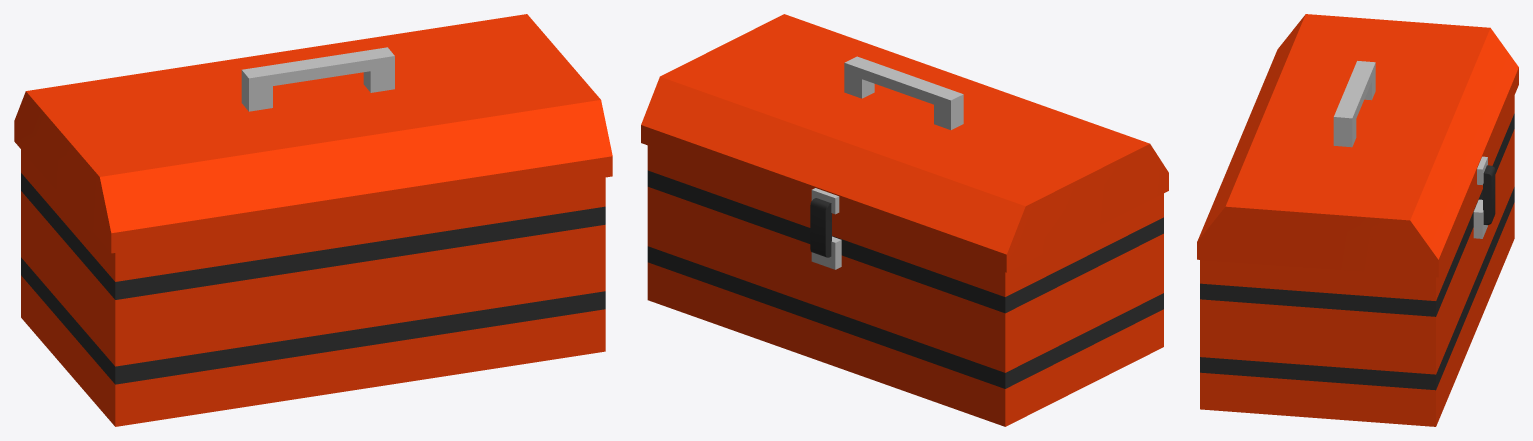
The model's file is toolbox.fbx.
3 views of the same model, side by side, from view 1: azimuth 30°, elevation 25°; view 2: azimuth 150°, elevation 25°; view 3: azimuth 270°, elevation 25° (orthographic). The views are drawn at different scales.
Visible parts, largest first — view 1: Toolbox; view 2: Toolbox; view 3: Toolbox.
Part boxes in pixels (x1,y1,x2,y2): Toolbox: (14, 14, 612, 426); Toolbox: (641, 14, 1168, 426); Toolbox: (1197, 14, 1518, 426).
Bounding box in the file's own units: 5250 × 2744 × 3394.
